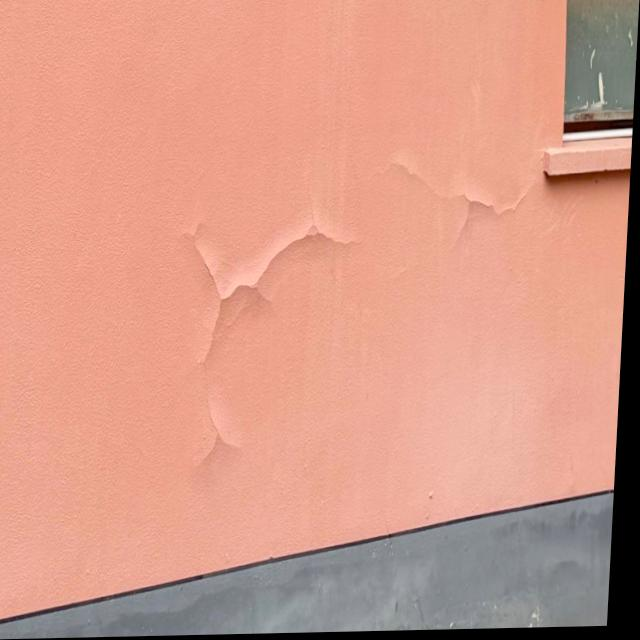hollowing: (163, 168, 366, 491), (367, 146, 546, 261)
